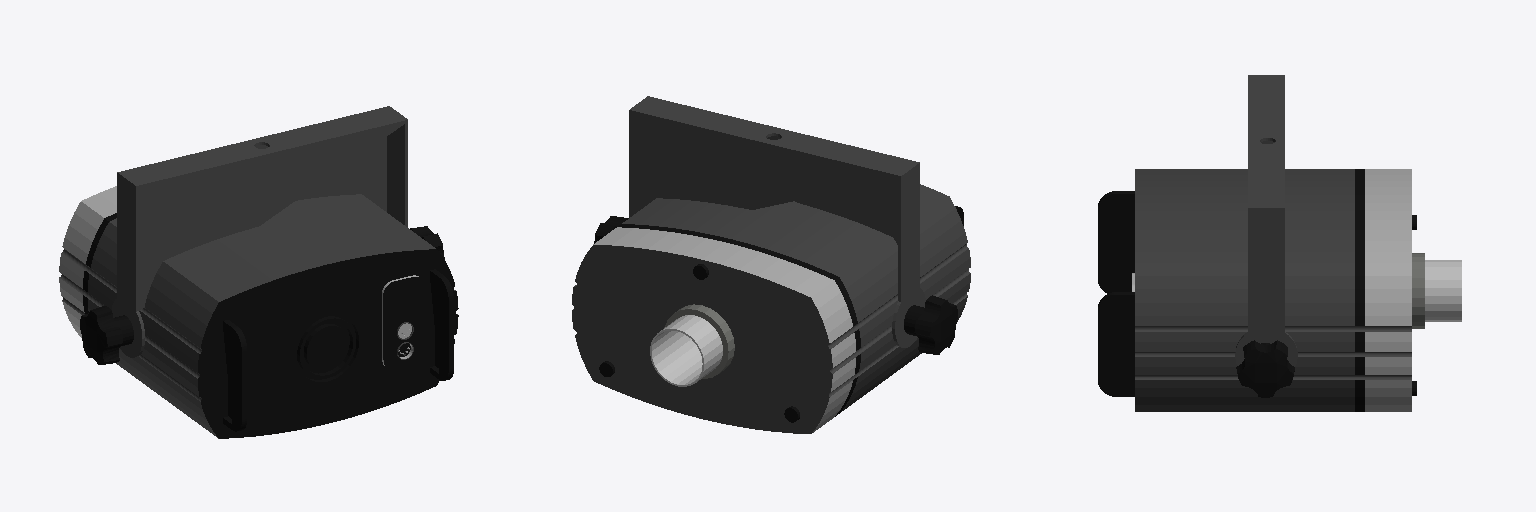
3 renders of one model, left to right at view 1: azimuth 30°, elevation 25°; view 2: azimuth 150°, elevation 25°; view 3: azimuth 270°, elevation 25°, orthographic.
Visible parts, largest first — view 1: Mesh6 X24_1 Model, Mesh7 X24_1 Model, Mesh3 Group3 X24_1 Model, Mesh4 knob_06850_4010_x_30 Threaded_steel_aster_knob_M10_1 X24_1; view 2: Mesh6 X24_1 Model, Mesh7 X24_1 Model, Mesh4 knob_06850_4010_x_30 Threaded_steel_aster_knob_M10_1 X24_1; view 3: Mesh6 X24_1 Model, Mesh7 X24_1 Model, Mesh5 knob_06850_4010_x_30_1 Threaded_steel_aster_knob_M10_2 X24.
Part boxes in pixels (bbox=[...]): Mesh6 X24_1 Model: bbox=[59, 186, 458, 438]; Mesh7 X24_1 Model: bbox=[112, 106, 407, 357]; Mesh3 Group3 X24_1 Model: bbox=[382, 275, 426, 371]; Mesh4 knob_06850_4010_x_30 Threaded_steel_aster_knob_M10_1 X24_1: bbox=[80, 306, 133, 364]; Mesh6 X24_1 Model: bbox=[572, 184, 970, 433]; Mesh7 X24_1 Model: bbox=[629, 96, 925, 347]; Mesh4 knob_06850_4010_x_30 Threaded_steel_aster_knob_M10_1 X24_1: bbox=[904, 295, 957, 354]; Mesh6 X24_1 Model: bbox=[1098, 169, 1461, 411]; Mesh7 X24_1 Model: bbox=[1235, 75, 1297, 366]; Mesh5 knob_06850_4010_x_30_1 Threaded_steel_aster_knob_M10_2 X24: bbox=[1236, 340, 1294, 397].
Bounding box in the file's own units: 15.74 × 10.08 × 14.5.